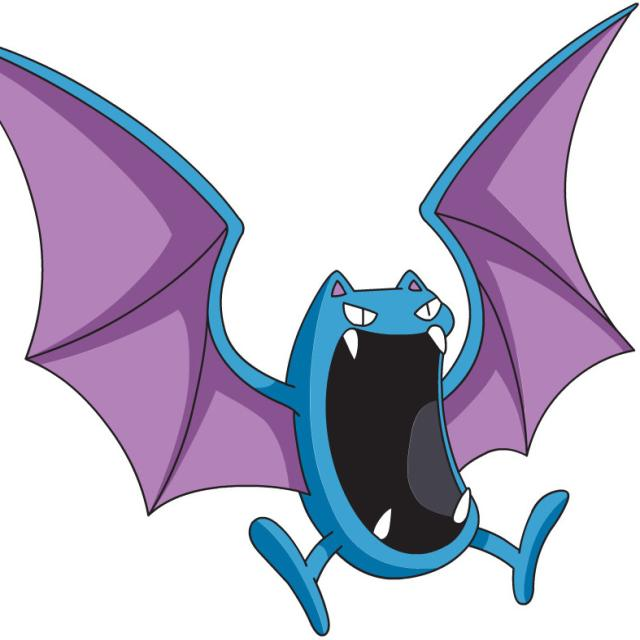Golbat: (152, 184, 570, 620)
